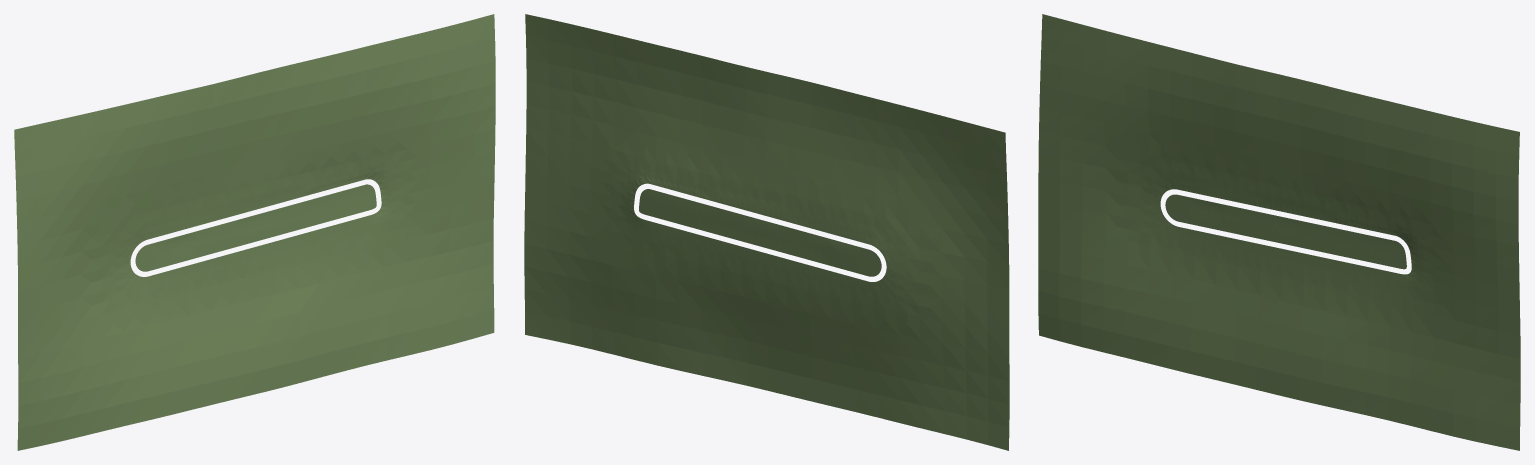
3 views of the same model, side by side, from view 1: azimuth 30°, elevation 25°; view 2: azimuth 150°, elevation 25°; view 3: azimuth 330°, elevation 25° (orthographic).
Parts seen in each view (by area): view 1: Background; view 2: Background; view 3: Background.
Boxes of the visible parts, x1,y1,x2,y2 form: Background: (14, 14, 495, 450); Background: (524, 14, 1009, 450); Background: (1038, 14, 1520, 450).
Size of the model in its own units: 880 by 560 by 19.12.
